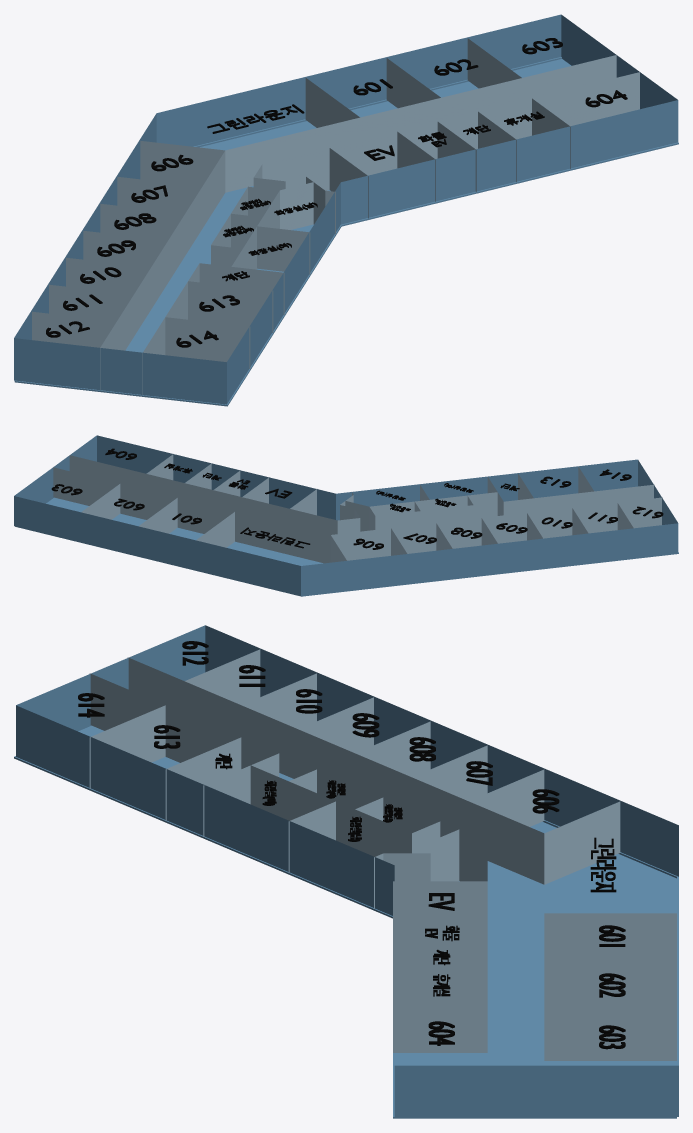
File: 6floor.glb
3 views of the same model, one above another, from view 1: azimuth 30°, elevation 25°; view 2: azimuth 150°, elevation 25°; view 3: azimuth 270°, elevation 25° (orthographic). The views are drawn at different scales.
Visible parts, largest first — view 1: InnerWalls_4F, FloorAndWalls_4F, 텍스트.013; view 2: FloorAndWalls_4F, InnerWalls_4F, 텍스트.013; view 3: InnerWalls_4F, FloorAndWalls_4F, 텍스트.013.
Boxes of the visible parts, x1,y1,x2,y2 form: InnerWalls_4F: [32, 38, 639, 394]; FloorAndWalls_4F: [14, 14, 678, 406]; 텍스트.013: [207, 104, 304, 133]; FloorAndWalls_4F: [14, 435, 678, 596]; InnerWalls_4F: [53, 454, 662, 563]; 텍스트.013: [240, 527, 310, 548]; InnerWalls_4F: [89, 649, 676, 1060]; FloorAndWalls_4F: [14, 625, 678, 1118]; 텍스트.013: [590, 837, 616, 892].
Size of the model in its own units: 550 by 31.5 by 351.
